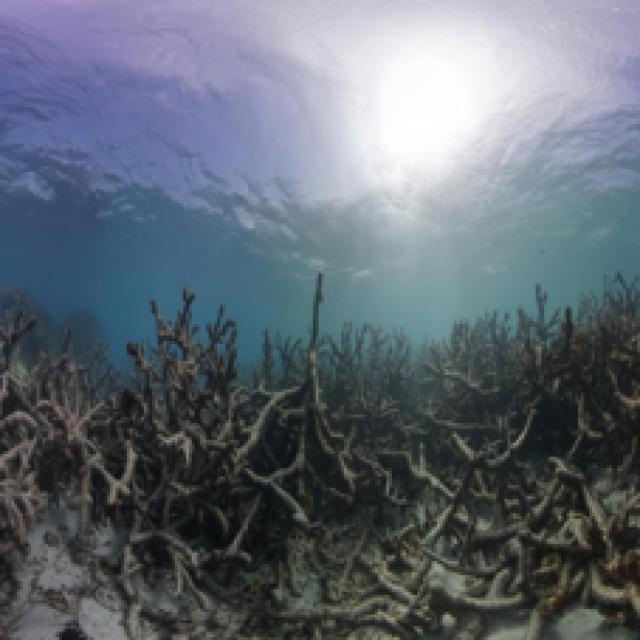Dead Coral: (90, 265, 347, 594), (441, 280, 640, 607), (0, 271, 101, 594)
